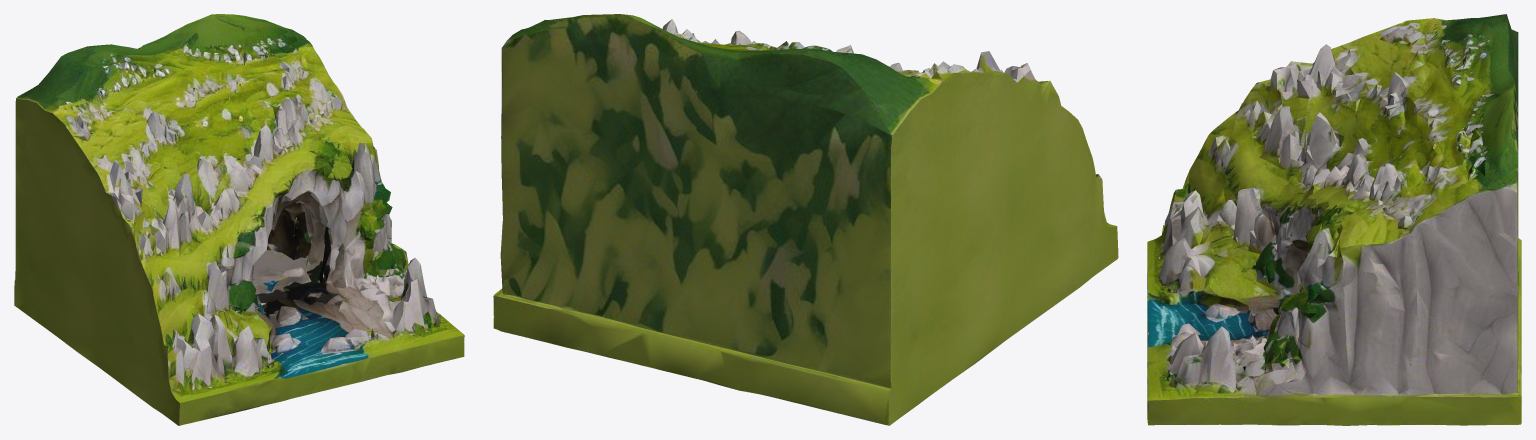
The model's file is akiyoshido.glb.
3 views of the same model, side by side, from view 1: azimuth 30°, elevation 25°; view 2: azimuth 150°, elevation 25°; view 3: azimuth 270°, elevation 25° (orthographic). The views are drawn at different scales.
Visible parts, largest first — view 1: logan-textured.obj; view 2: logan-textured.obj; view 3: logan-textured.obj.
Part boxes in pixels (x1,y1,x2,y2): logan-textured.obj: [14, 14, 464, 425]; logan-textured.obj: [493, 14, 1118, 425]; logan-textured.obj: [1147, 14, 1521, 425].
Bounding box in the file's own units: 1 × 0.8273 × 0.9995.
1 material, 1 textured.
